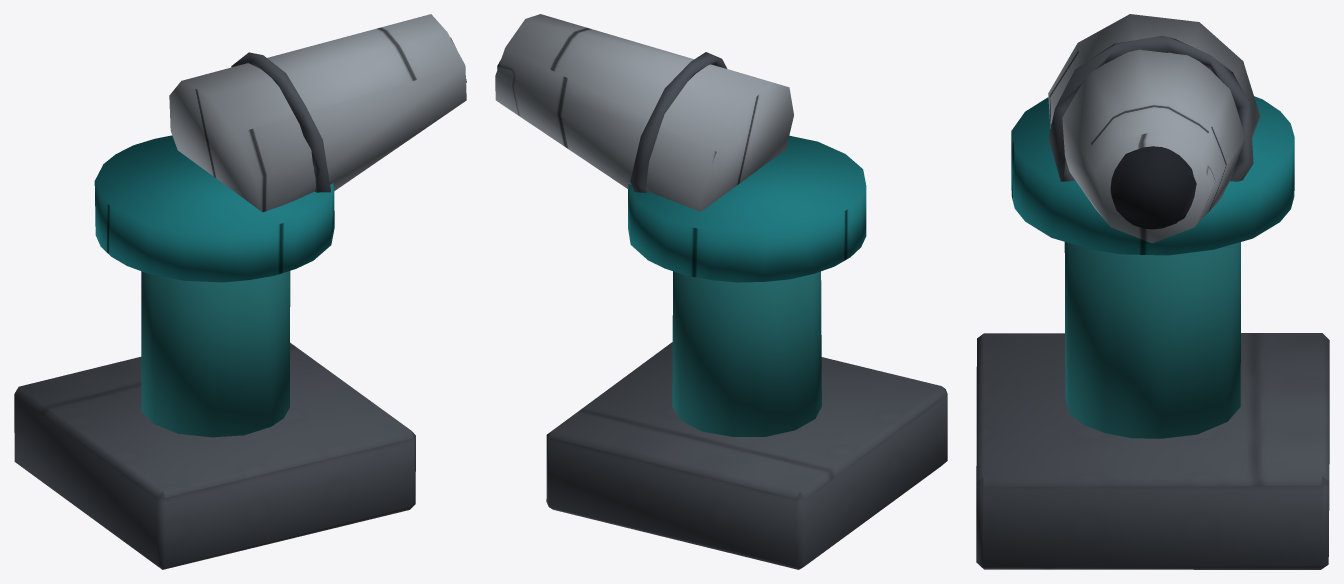
The model's file is ops_fire_suppression_head_lod2.glb.
3 views of the same model, side by side, from view 1: azimuth 30°, elevation 25°; view 2: azimuth 150°, elevation 25°; view 3: azimuth 270°, elevation 25° (orthographic). The views are drawn at different scales.
Visible parts, largest first — view 1: LOD2_Mechanical, LOD2_MOTION_NOZZLE_YAW_BrushedMetal, LOD2_Livery, LOD2_Armor, LOD2_MOTION_NOZZLE_YAW_Mechanical; view 2: LOD2_Mechanical, LOD2_MOTION_NOZZLE_YAW_BrushedMetal, LOD2_Livery, LOD2_Armor, LOD2_MOTION_NOZZLE_YAW_Mechanical; view 3: LOD2_Mechanical, LOD2_Armor, LOD2_MOTION_NOZZLE_YAW_BrushedMetal, LOD2_Livery, LOD2_MOTION_NOZZLE_YAW_MechanicalDark, LOD2_MOTION_NOZZLE_YAW_Mechanical.
Boxes of the visible parts, box(x1,y1,x2,y2) form: LOD2_Mechanical: box(14, 342, 415, 569); LOD2_MOTION_NOZZLE_YAW_BrushedMetal: box(169, 14, 466, 212); LOD2_Livery: box(94, 135, 334, 282); LOD2_Armor: box(141, 271, 290, 437); LOD2_MOTION_NOZZLE_YAW_Mechanical: box(231, 52, 330, 192); LOD2_Mechanical: box(546, 342, 947, 569); LOD2_MOTION_NOZZLE_YAW_BrushedMetal: box(495, 14, 793, 211); LOD2_Livery: box(628, 135, 866, 282); LOD2_Armor: box(672, 271, 821, 436); LOD2_MOTION_NOZZLE_YAW_Mechanical: box(630, 52, 727, 192); LOD2_Mechanical: box(976, 333, 1329, 569); LOD2_Armor: box(1064, 242, 1240, 438); LOD2_MOTION_NOZZLE_YAW_BrushedMetal: box(1048, 14, 1260, 243); LOD2_Livery: box(1011, 96, 1294, 255); LOD2_MOTION_NOZZLE_YAW_MechanicalDark: box(1110, 146, 1196, 229); LOD2_MOTION_NOZZLE_YAW_Mechanical: box(1048, 35, 1253, 181).
Size of the model in its own units: 1.13 by 1.22 by 0.7931.
Materials: 5 (5 with a texture image).
